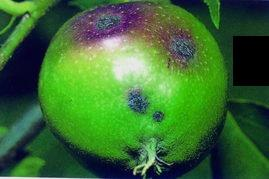rotten apple: (37, 1, 231, 177)
